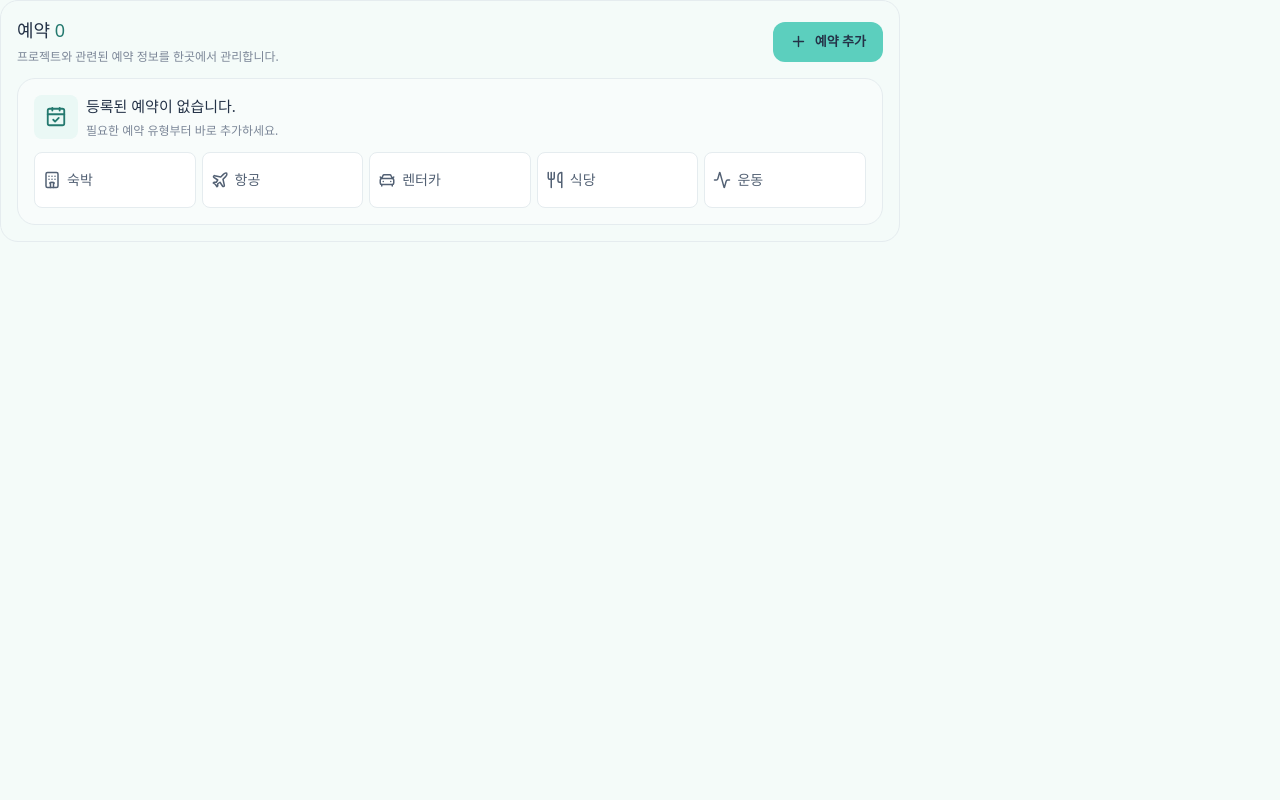
Test: project reservations › prefills an empty-state reservation type and adapts labels without changing data fields
Click the button with aria-label "숙박 예약 추가" at (115, 180), box [34,152,196,208]
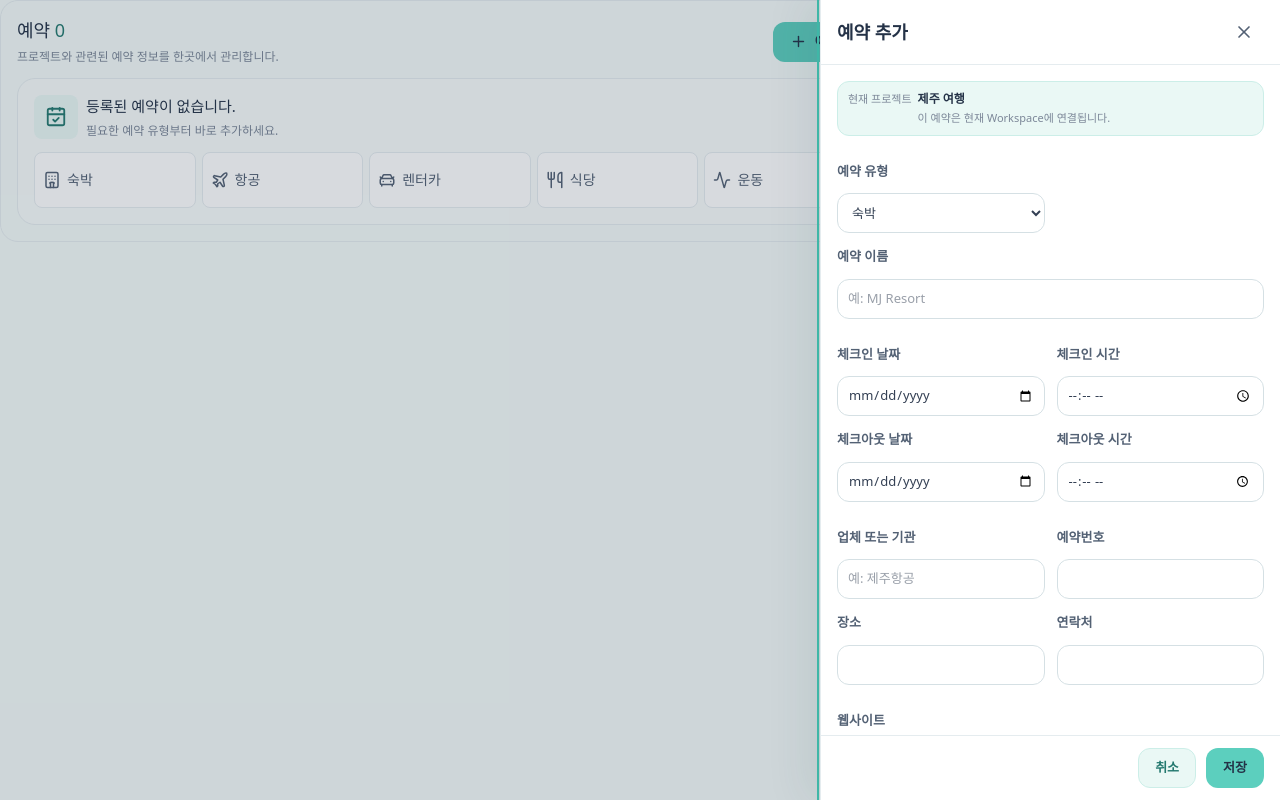
Expected: the dropdown labelled "예약 유형" shows "숙박"
Expected: the date field labelled "체크인 날짜" is shown, [837,376,1044,416]
Expected: the time field labelled "체크인 시간" is shown, [1056,376,1264,416]
Select "식당" in the dropdown labelled "예약 유형" at (941, 213), box [837,193,1044,233]
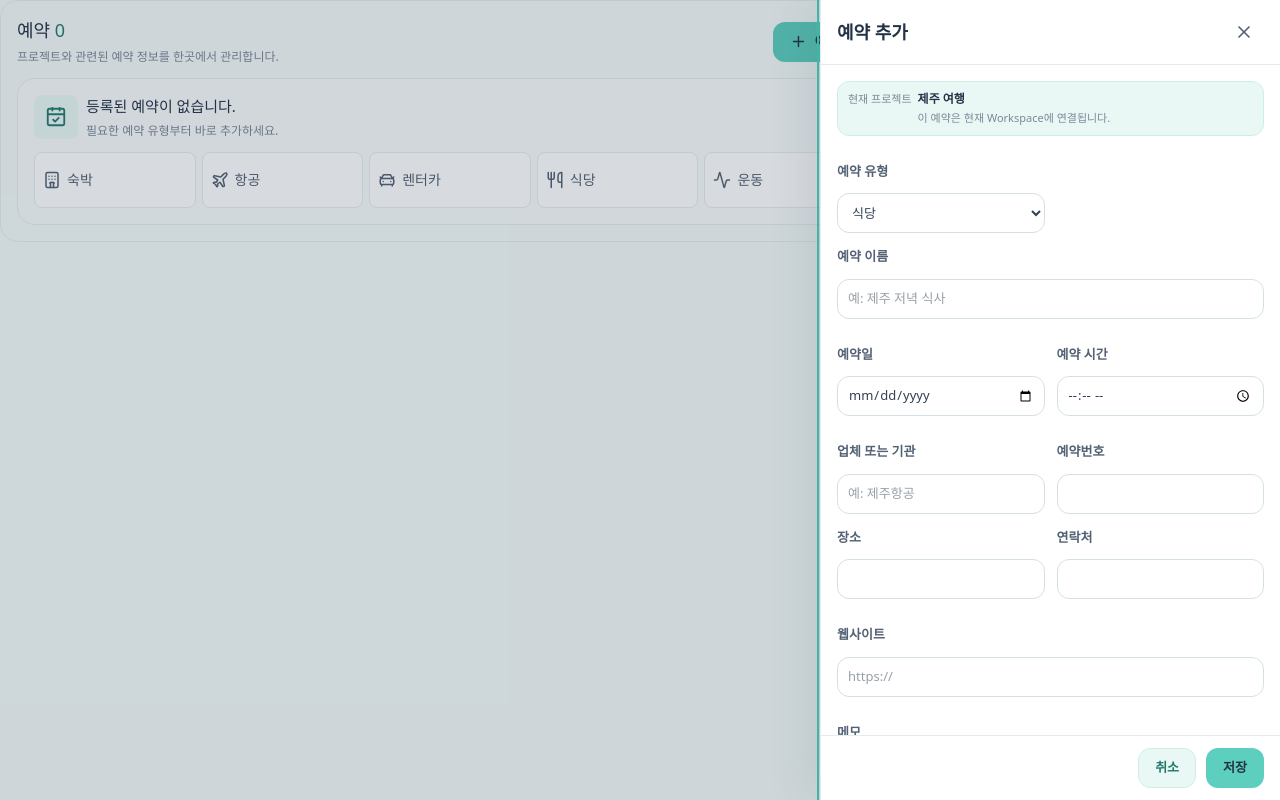
Expected: the field labelled "종료일" is not shown
Expected: the date field labelled "예약일" is shown, [837,376,1044,416]
Expected: the time field labelled "예약 시간" is shown, [1056,376,1264,416]
Select "배드민턴" in the dropdown labelled "예약 유형" at (941, 213), box [837,193,1044,233]
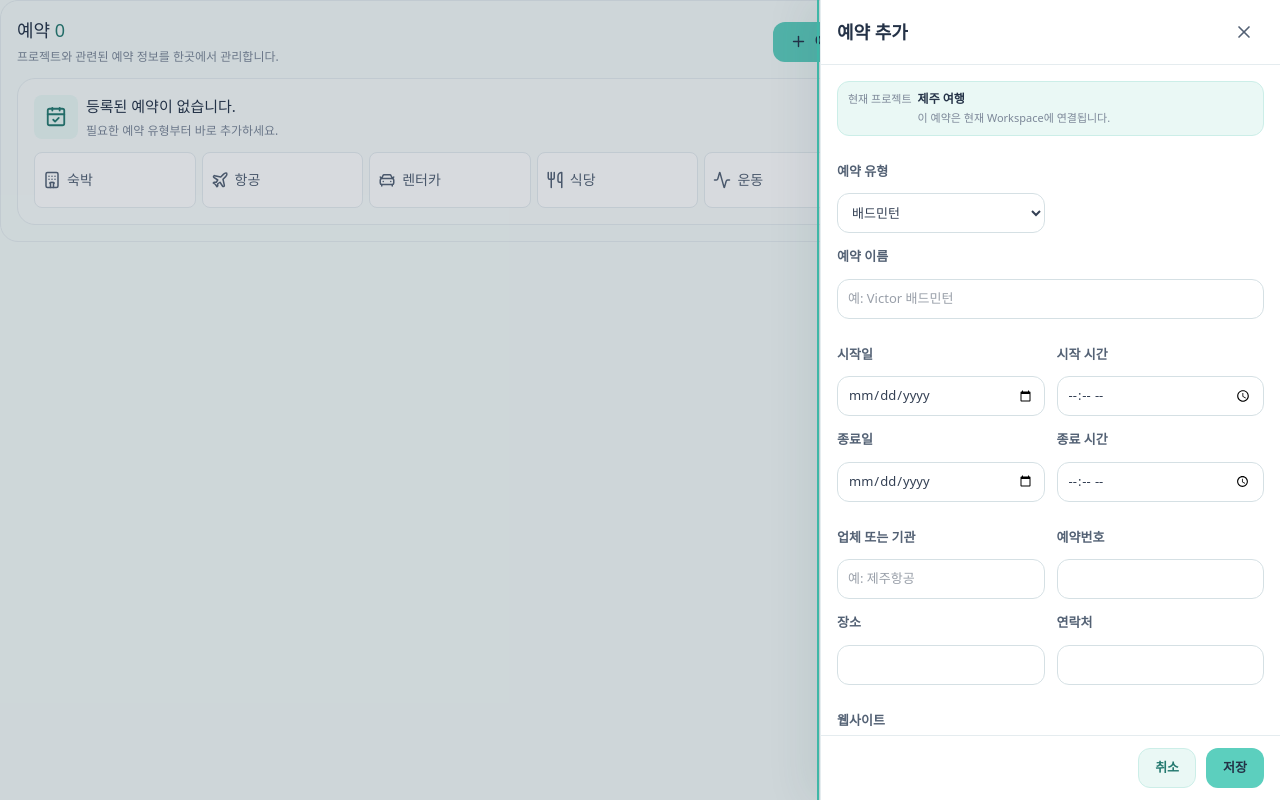
Expected: the date field labelled "시작일" is shown, [837,376,1044,416]
Expected: the time field labelled "시작 시간" is shown, [1056,376,1264,416]
Expected: the date field labelled "종료일" is shown, [837,462,1044,502]
